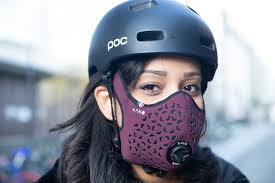Wearing Mask: (80, 0, 229, 183)
